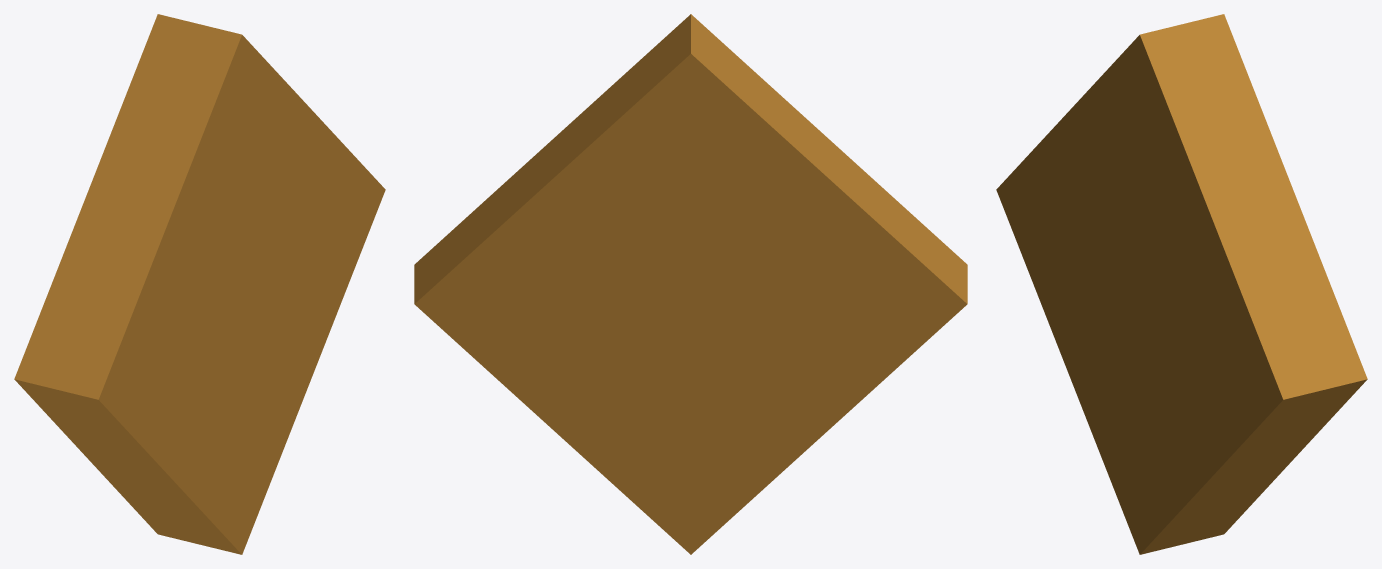
File: coin.glb
3 views of the same model, side by side, from view 1: azimuth 30°, elevation 25°; view 2: azimuth 150°, elevation 25°; view 3: azimuth 270°, elevation 25° (orthographic). The views are drawn at different scales.
Visible parts, largest first — view 1: 古铜钱; view 2: 古铜钱; view 3: 古铜钱.
Part boxes in pixels (x1=…): 古铜钱: x1=14, y1=14, x2=385, y2=554; 古铜钱: x1=414, y1=14, x2=967, y2=554; 古铜钱: x1=996, y1=14, x2=1367, y2=554.
Bounding box in the file's own units: 0.3362 × 0.3536 × 0.2287.
